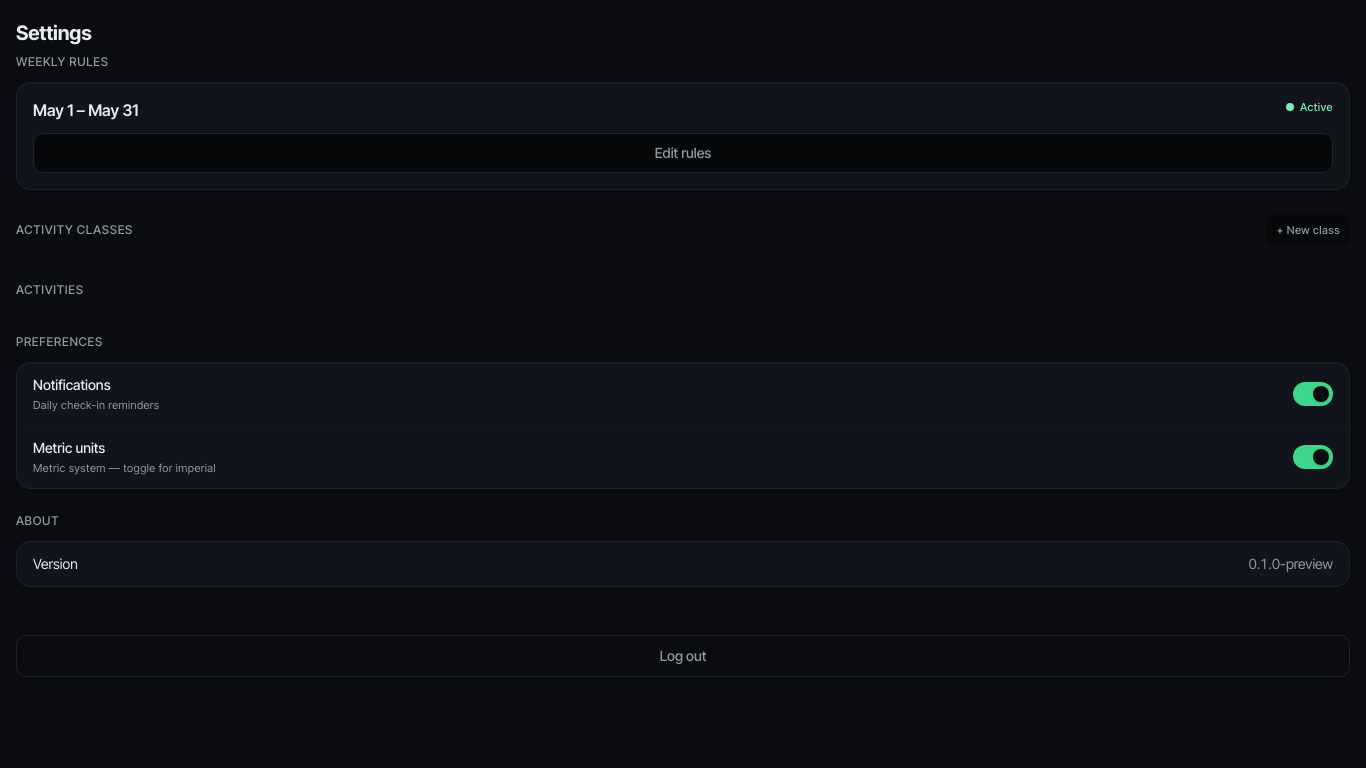
Test: SettingsScreen — S2.6 create activity class › opens the new-class form when + New class is clicked
What coordinates should you click on to do the following:
click the button "+ New class"
I would click on:
 (1308, 230)
Its box is [1266,214,1350,246].
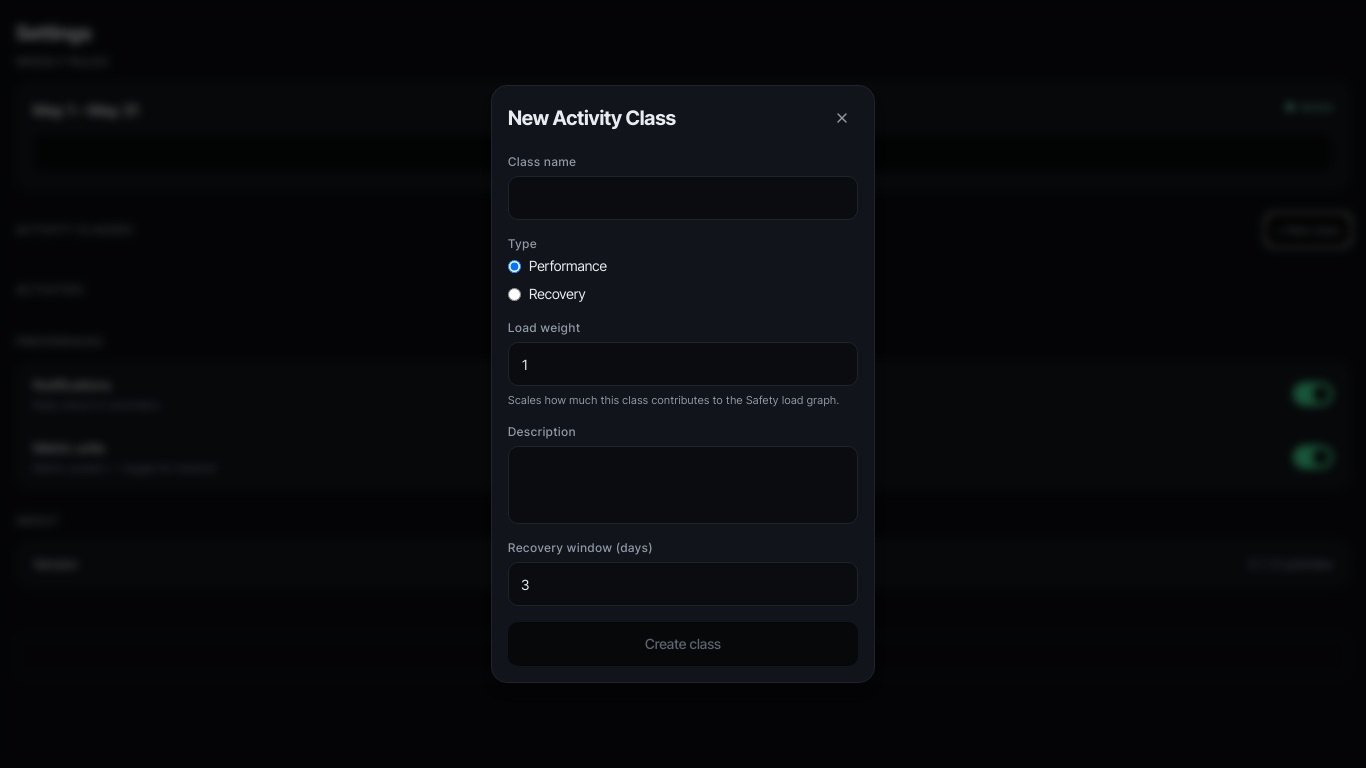
Now the dialog "New Activity Class" is shown, box [491,85,875,683]
Now the field labelled "Class name" is shown, box [508,176,858,220]
Now the radio button labelled "Performance" is shown, box [508,260,521,272]
